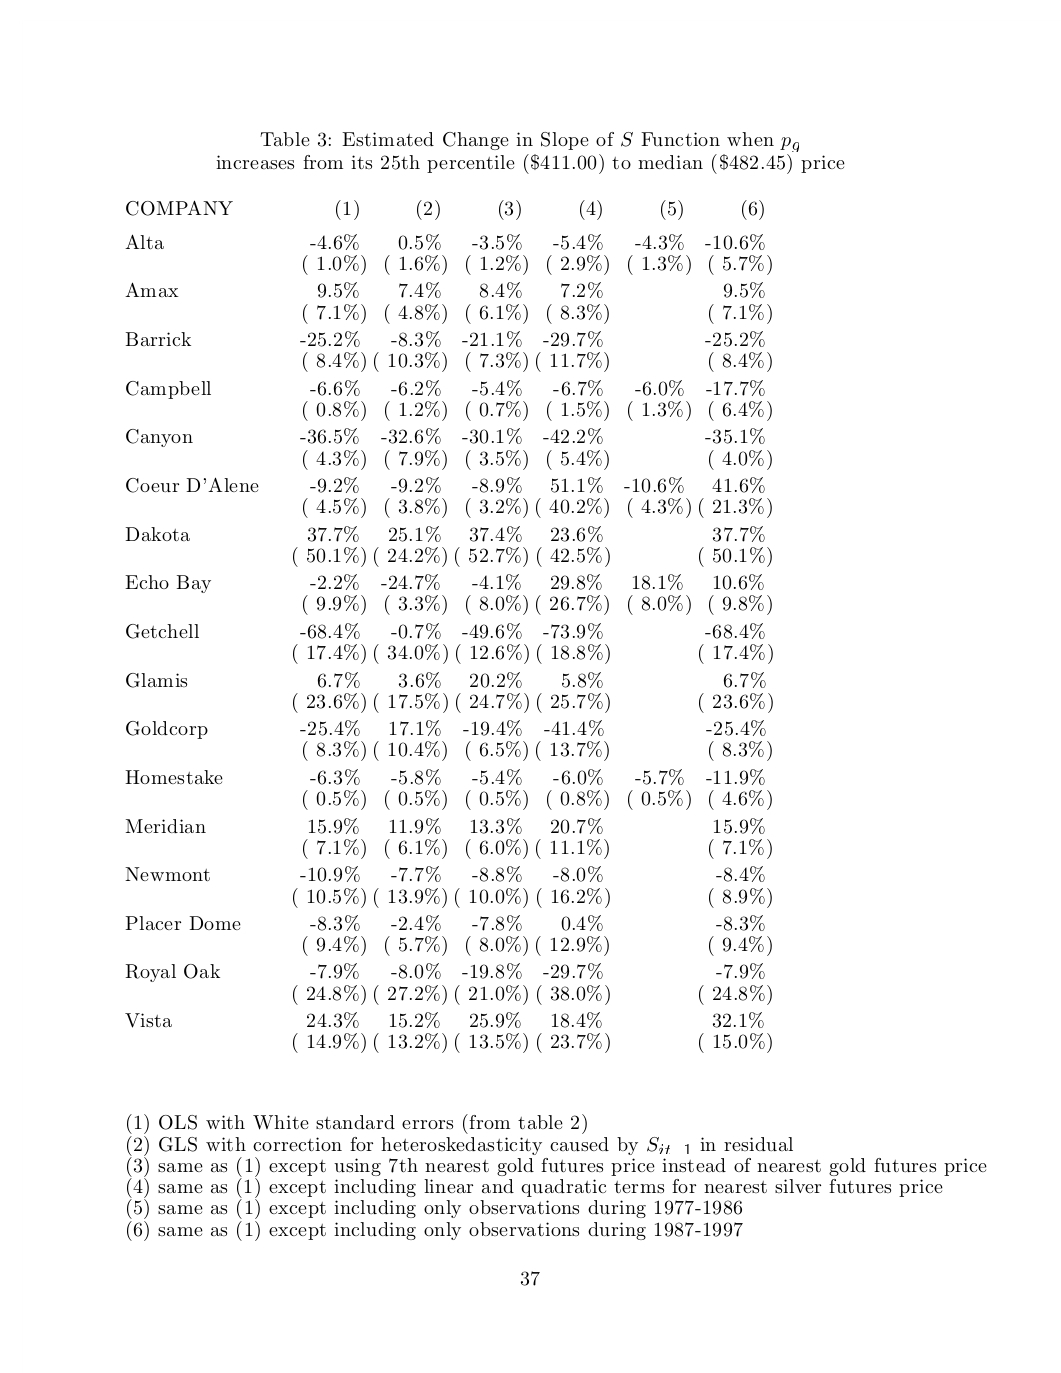Table: (125, 199, 772, 1052)
